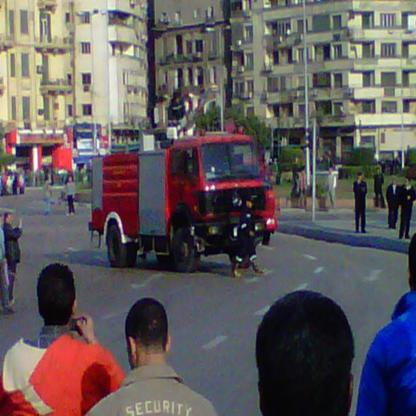Truck: (88, 125, 274, 281)
